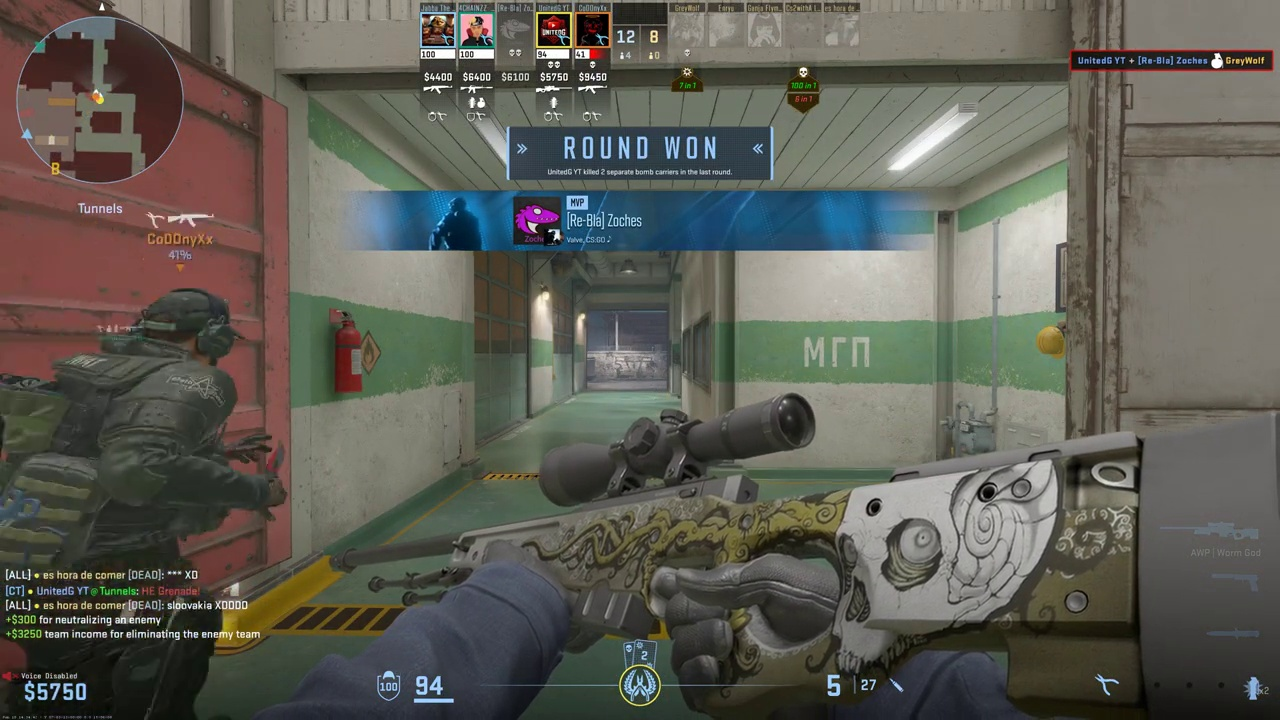CT: (0, 287, 265, 720)
